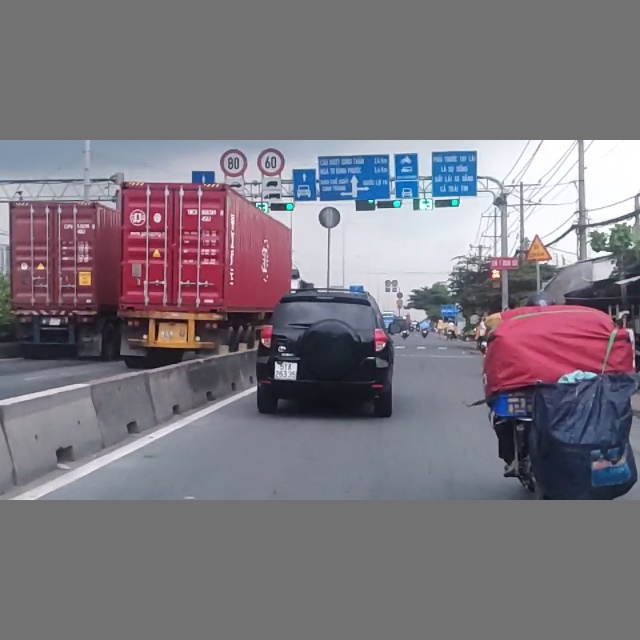P.127*60: (257, 149, 285, 177)
P.127*80: (219, 149, 248, 177)
W.245a: (525, 235, 552, 262)
